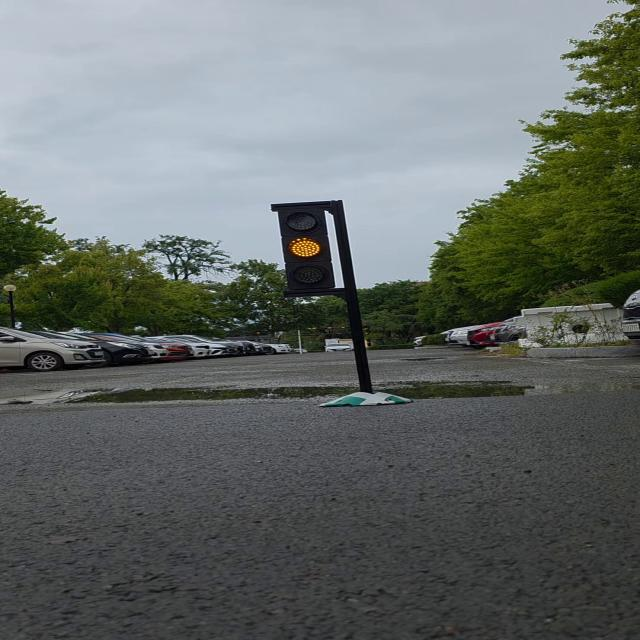yellow: (261, 198, 361, 298)
